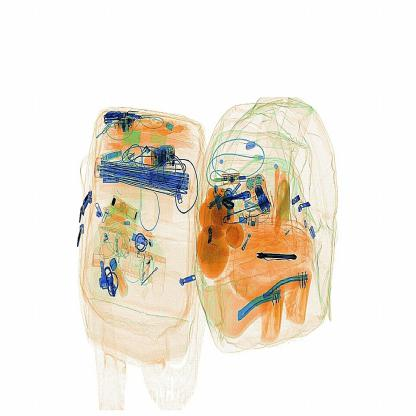knife: (253, 251, 299, 262)
